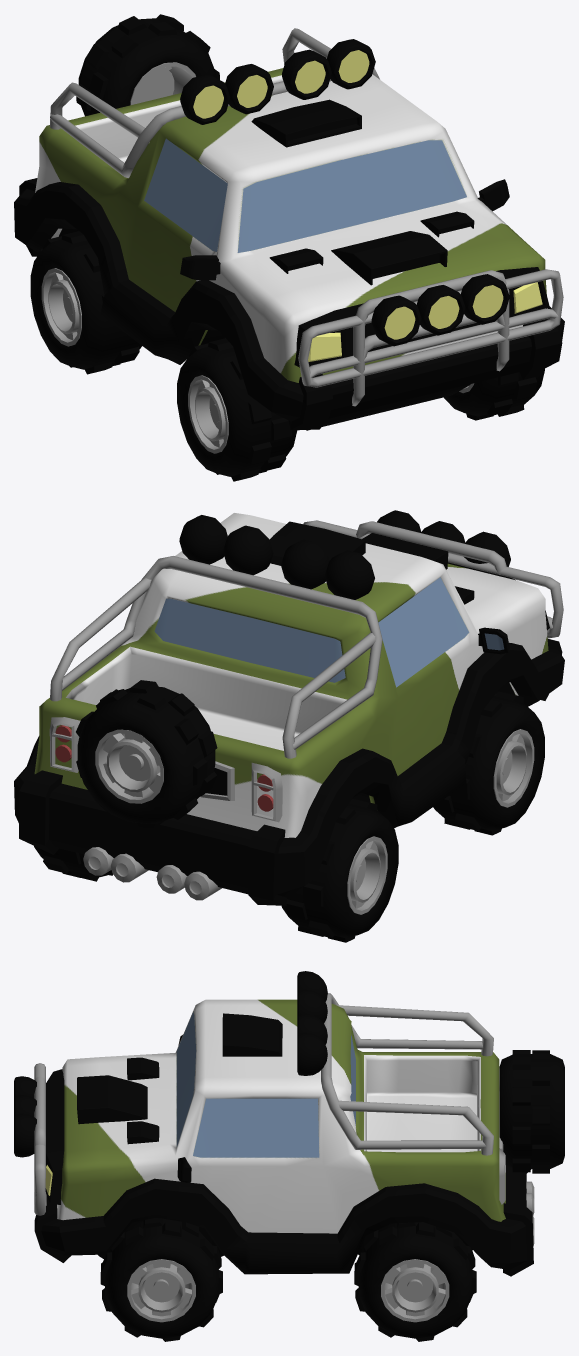
File: Ranger Evolution4 Black SlideKakiWhite DarkIndigo LightGrey Horn4 Horn5.glb
The picture shows the model from 3 angles, top to bottom: view 1: azimuth 30°, elevation 25°; view 2: azimuth 150°, elevation 25°; view 3: azimuth 270°, elevation 25°; orthographic projection. The views are drawn at different scales.
Visible parts, largest first — view 1: evo4_bodyEvo4:PIV, evo4_Sill_4:PIV, evo4_glassFront:PIV, evo4_pole_front4:PIV, evo4_tireFR:PIV, evo4_tireBack:PIV, evo4_tireBL:PIV, evo4_glassR:PIV, evo4_pole_back4:PIV, evo4_HoleFront:PIV, evo4_HoleFront9:PIV, evo4_tireFL:PIV (+25 smaller); view 2: evo4_bodyEvo4:PIV, evo4_Sill_4:PIV, evo4_tireBack:PIV, evo4_pole_back4:PIV, evo4_glassBack:PIV, evo4_tireBL:PIV, evo4_tireFR:PIV, evo4_glassR:PIV, evo4_pole_front4:PIV, evo4_rimBack:PIV, evo4_rimFR:PIV, evo4_rimBR:PIV (+14 smaller); view 3: evo4_bodyEvo4:PIV, evo4_Sill_4:PIV, evo4_tireFL:PIV, evo4_tireBR:PIV, evo4_tireBack:PIV, evo4_pole_back4:PIV, evo4_glassL:PIV, evo4_rimFL:PIV, evo4_rimBL:PIV, evo4_HoleFront:PIV, evo4_HoleFront9:PIV, evo4_blockFront:PIV (+9 smaller).
Boxes of the visible parts, left/top/right/bottom form: evo4_bodyEvo4:PIV: left=35, top=68, right=547, bottom=382; evo4_Sill_4:PIV: left=14, top=178, right=564, bottom=430; evo4_glassFront:PIV: left=237, top=140, right=466, bottom=252; evo4_pole_front4:PIV: left=298, top=269, right=563, bottom=406; evo4_tireFR:PIV: left=177, top=337, right=297, bottom=481; evo4_tireBack:PIV: left=76, top=14, right=219, bottom=116; evo4_tireBL:PIV: left=30, top=230, right=141, bottom=374; evo4_glassR:PIV: left=144, top=138, right=227, bottom=251; evo4_pole_back4:PIV: left=49, top=28, right=379, bottom=178; evo4_HoleFront:PIV: left=331, top=231, right=447, bottom=285; evo4_HoleFront9:PIV: left=251, top=99, right=361, bottom=147; evo4_tireFL:PIV: left=444, top=368, right=544, bottom=420; evo4_bodyEvo4:PIV: left=34, top=513, right=548, bottom=837; evo4_Sill_4:PIV: left=14, top=639, right=564, bottom=905; evo4_tireBack:PIV: left=76, top=680, right=217, bottom=828; evo4_pole_back4:PIV: left=50, top=556, right=382, bottom=758; evo4_glassBack:PIV: left=154, top=598, right=345, bottom=682; evo4_tireBL:PIV: left=281, top=799, right=398, bottom=942; evo4_tireFR:PIV: left=433, top=691, right=544, bottom=835; evo4_glassR:PIV: left=378, top=577, right=469, bottom=687; evo4_pole_front4:PIV: left=303, top=520, right=563, bottom=638; evo4_rimBack:PIV: left=95, top=729, right=163, bottom=803; evo4_rimFR:PIV: left=493, top=729, right=534, bottom=807; evo4_rimBR:PIV: left=347, top=836, right=387, bottom=914; evo4_bodyEvo4:PIV: left=57, top=999, right=505, bottom=1233; evo4_Sill_4:PIV: left=34, top=1165, right=533, bottom=1276; evo4_tireFL:PIV: left=100, top=1218, right=222, bottom=1341; evo4_tireBR:PIV: left=354, top=1222, right=476, bottom=1341; evo4_tireBack:PIV: left=499, top=1050, right=564, bottom=1173; evo4_pole_back4:PIV: left=321, top=993, right=493, bottom=1155; evo4_glassL:PIV: left=193, top=1098, right=319, bottom=1157; evo4_rimFL:PIV: left=127, top=1259, right=195, bottom=1322; evo4_rimBL:PIV: left=381, top=1259, right=449, bottom=1322; evo4_HoleFront:PIV: left=77, top=1075, right=147, bottom=1124; evo4_HoleFront9:PIV: left=222, top=1013, right=282, bottom=1056; evo4_blockFront:PIV: left=45, top=1069, right=64, bottom=1204.
Size of the model in its own units: 187 by 175 by 315.
Materials: 7 (1 with a texture image).
